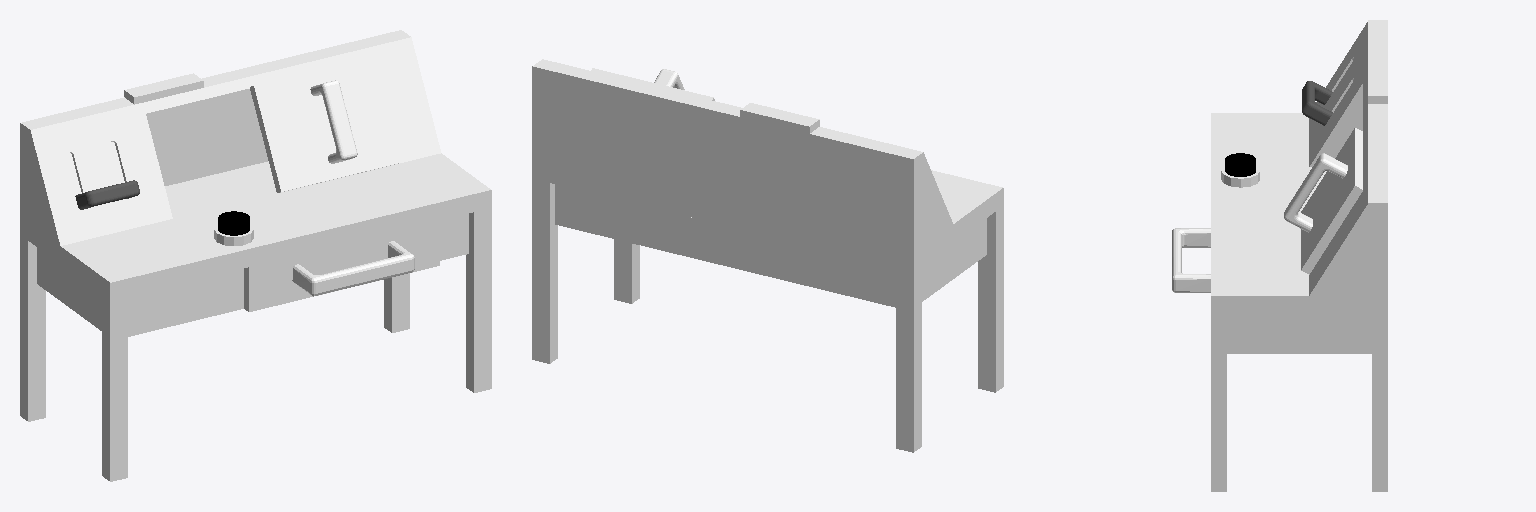
URDF robot description (playtable_6):
<?xml version="1.0" encoding="utf-8"?>
<robot
  name="playtable_6" concave="yes">
  <link
    name="base_link">
    <inertial>
      <origin
        xyz="-0.0432138999361933 0.501032855485917 -0.0450543406685958"
        rpy="0 0 0" />
      <mass
        value="0.0" />
        <!-- value="46.9509300649509" -->
      <inertia
        ixx="1.52184000058477"
        ixy="0.0840236872172208"
        ixz="0.00884214497846794"
        iyy="6.69611350891614"
        iyz="0.279082713309664"
        izz="6.51745652638833" />
    </inertial>
    <visual>
      <origin
        xyz="0 0 0"
        rpy="0 0 0" />
      <geometry>
        <mesh
          filename="../meshes/base_link.obj" />
      </geometry>
      <material name="white">
       <color rgba="1 1 1 1"/>
     </material>
    </visual>
    <collision concave="yes">
      <origin
        xyz="0 0 0"
        rpy="0 0 0" />
      <geometry>
        <mesh
          filename="../meshes/base_link.obj" />
      </geometry>
    </collision>
  </link>
  <link
    name="button_link">
    <inertial>
      <origin
        xyz="2.77555756156289E-17 0.0149999999999999 -2.77555756156289E-17"
        rpy="0 0 0" />
      <mass
        value="0.153812376319756" />
      <inertia
        ixx="7.30608787518844E-05"
        ixy="-1.78342506783922E-37"
        ixz="0"
        iyy="0.000123049901055805"
        iyz="-2.99751059459683E-37"
        izz="7.30608787518843E-05" />
    </inertial>
    <visual>
      <origin
        xyz="0 0 0"
        rpy="0 0 0" />
      <geometry>
        <mesh
          filename="../meshes/button_link.STL" />
      </geometry>
      <material
        name="black">
        <color
          rgba="0.0 0.0 0.0 1" />
      </material>
    </visual>
    <collision>
      <origin
        xyz="0 0 0"
        rpy="0 0 0" />
      <geometry>
        <mesh
          filename="../meshes/button_link.STL" />
      </geometry>
    </collision>
  </link>
  <joint
    name="base__button"
    type="prismatic">
    <origin
      xyz="-0.15 -0.15 0.575"
      rpy="1.5708 0 0" />
    <parent
      link="base_link" />
    <child
      link="button_link" />
    <axis
      xyz="0 -1 0" />
    <limit
      lower="0"
      upper="0.025"
      effort="0"
      velocity="0" />
  </joint>
  <link
    name="switch_link">
    <inertial>
      <origin
        xyz="0 0.0501954388893268 -0.01"
        rpy="0 0 0" />
      <mass
        value="0.238786703751891" />
      <inertia
        ixx="0.000149903694690068"
        ixy="3.01021165655857E-20"
        ixz="-1.62742220508933E-21"
        iyy="0.000673716537106872"
        iyz="3.52365706057789E-19"
        izz="0.000767827685519096" />
    </inertial>
    <visual>
      <origin
        xyz="0 0 0"
        rpy="0 0 0" />
      <geometry>
        <mesh
          filename="../meshes/switch_link.obj" />
      </geometry>
      <material
        name="gray">
        <color
          rgba="0.4 0.4 0.4 1" />
      </material>
    </visual>
    <collision>
      <origin
        xyz="0 0 0"
        rpy="0 0 0" />
      <geometry>
        <mesh
          filename="../meshes/switch_link_vhacd2.obj" />
      </geometry>
    </collision>
  </link>
  <joint
    name="base__switch"
    type="prismatic">
    <origin
      xyz="-0.4 0.07616 0.61861"
      rpy="2.618 0 0" />
    <parent
      link="base_link" />
    <child
      link="switch_link" />
    <axis
      xyz="0 0 -1" />
    <limit
      lower="0"
      upper="0.11"
      effort="0"
      velocity="0" />
  </joint>
  <link
    name="slide_link">
    <inertial>
      <origin
        xyz="0.175 -2.22044604925031E-16 0.0204147302446786"
        rpy="0 0 0" />
      <mass
        value="1.54349139995684" />
      <inertia
        ixx="0.0102407243866408"
        ixy="-5.52859067147059E-19"
        ixz="3.1174867142905E-20"
        iyy="0.0146074020666347"
        iyz="-2.29850860566927E-17"
        izz="0.0232176606837711" />
    </inertial>
    <visual>
      <origin
        xyz="0 0 0"
        rpy="0 0 0" />
      <geometry>
        <mesh
          filename="../meshes/slide_link.obj" />
      </geometry>
      <material name="white">
       <color rgba="1 1 1 1"/>
     </material>
    </visual>
    <collision>
      <origin
        xyz="0 0 0"
        rpy="0 0 0" />
      <geometry>
        <mesh
          filename="../meshes/slide_link_vhacd2.obj" />
      </geometry>
    </collision>
  </link>
  <joint
    name="base__slide"
    type="prismatic">
    <origin
      xyz="0.075 0.09375 0.66908"
      rpy="1.0472 0 0" />
    <parent
      link="base_link" />
    <child
      link="slide_link" />
    <axis
      xyz="-1 0 0" />
    <limit
      lower="0"
      upper="0.3"
      effort="0"
      velocity="0" />
  </joint>
  <link
    name="drawer_link">
    <inertial>
      <origin
        xyz="5.55111512312578E-17 0.033198054271063 0.0988554042464424"
        rpy="0 0 0" />
      <mass
        value="4.23128077824699" />
      <inertia
        ixx="0.059216774525043"
        ixy="-3.31093063636535E-19"
        ixz="-3.37937281161808E-18"
        iyy="0.16375258619816"
        iyz="-4.16732706455143E-05"
        izz="0.11199026473436" />
    </inertial>
    <visual>
      <origin
        xyz="0 0 0"
        rpy="0 0 0" />
      <geometry>
        <mesh
          filename="../meshes/drawer_link.obj" />
      </geometry>
      <material name="white">
       <color rgba="1 1 1 1"/>
     </material>
    </visual>
    <collision>
      <origin
        xyz="0 0 0"
        rpy="0 0 0" />
      <geometry>
        <mesh
          filename="../meshes/drawer_link_vhacd2.obj" />
      </geometry>
    </collision>
  </link>
  <joint
    name="base__drawer"
    type="prismatic">
    <origin
      xyz="0.125 0 0.4"
      rpy="1.5708 0 0" />
    <parent
      link="base_link" />
    <child
      link="drawer_link" />
    <axis
      xyz="0 0 1" />
    <limit
      lower="0"
      upper="0.275"
      effort="0"
      velocity="0" />
  </joint>
  <link
    name="led_link">
    <inertial>
      <origin
        xyz="-2.77555756156289E-17 0.01 0"
        rpy="0 0 0" />
      <mass
        value="0.204" />
      <inertia
        ixx="4.93E-05"
        ixy="-1.17961196366423E-21"
        ixz="1.4100049253174E-20"
        iyy="0.000722500000000001"
        iyz="-1.87344412162302E-37"
        izz="0.000686800000000001" />
    </inertial>
    <visual>
      <origin
        xyz="0 0 0"
        rpy="0 0 0" />
      <geometry>
        <mesh
          filename="../meshes/led_link.STL" />
      </geometry>
      <material
        name="white">
        <color
          rgba="1 1 1 1" />
      </material>
    </visual>
    <collision>
      <origin
        xyz="0 0 0"
        rpy="0 0 0" />
      <geometry>
        <mesh
          filename="../meshes/led_link.STL" />
      </geometry>
    </collision>
  </link>
  <joint
    name="base__led"
    type="fixed">
    <origin
      xyz="-0.15 0.2 0.80981"
      rpy="1.5708 0 0" />
    <parent
      link="base_link" />
    <child
      link="led_link" />
    <axis
      xyz="0 0 0" />
    <limit
      lower="0"
      upper="0"
      effort="0"
      velocity="0" />
  </joint>
  <link
    name="light_link">
    <inertial>
      <origin
        xyz="5.55111512312578E-17 0.0280266379242365 -0.035"
        rpy="0 0 0" />
      <mass
        value="0.173918312098126" />
      <inertia
        ixx="8.23031895831843E-05"
        ixy="1.45149564099263E-22"
        ixz="4.04382946355205E-38"
        iyy="8.738048875184E-05"
        iyz="8.02658189462509E-38"
        izz="8.23031895831843E-05" />
    </inertial>
    <visual>
      <origin
        xyz="0 0 0"
        rpy="0 0 0" />
      <geometry>
        <mesh
          filename="../meshes/light_link.STL" />
      </geometry>
      <material
        name="white">
        <color
          rgba="1 1 1 1" />
      </material>
    </visual>
    <collision>
      <origin
        xyz="0 0 0"
        rpy="0 0 0" />
      <geometry>
        <mesh
          filename="../meshes/light_link.STL" />
      </geometry>
    </collision>
  </link>
  <joint
    name="base__light"
    type="fixed">
    <origin
      xyz="-0.4 0.165 0.80981"
      rpy="1.5708 0 0" />
    <parent
      link="base_link" />
    <child
      link="light_link" />
    <axis
      xyz="0 0 0" />
  </joint>
  <link
    name="plank_link">
    <inertial>
      <origin
        xyz="2.77555756156289E-17 0.0125 0"
        rpy="0 0 0" />
      <mass
        value="2.84375" />
      <inertia
        ixx="0.00740559895833334"
        ixy="-4.69820941410383E-20"
        ixz="2.0274580625479E-18"
        iyy="0.107381184895833"
        iyz="1.88079096131566E-34"
        izz="0.100271809895833" />
    </inertial>
    <visual>
      <origin
        xyz="0 0 0"
        rpy="0 0 0" />
      <geometry>
        <mesh
          filename="../meshes/plank_link.obj" />
      </geometry>
      <material name="white">
       <color rgba="1 1 1 1"/>
     </material>
    </visual>
    <collision>
      <origin
        xyz="0 0 0"
        rpy="0 0 0" />
      <geometry>
        <mesh
          filename="../meshes/plank_link.obj" />
      </geometry>
    </collision>
  </link>
  <joint
    name="base__plank"
    type="fixed">
    <origin
      xyz="0.1 0.1125 0.525"
      rpy="1.5708 0 0" />
    <parent
      link="base_link" />
    <child
      link="plank_link" />
    <axis
      xyz="0 0 0" />
  </joint>
</robot>

--- Render facts (derived) ---
3 views of the same robot in one strip: view 1: azimuth 30°, elevation 25°; view 2: azimuth 150°, elevation 25°; view 3: azimuth 270°, elevation 25° (orthographic).
Model playtable_6 with 8 links and 7 joints (4 prismatic, 3 fixed), rooted at base_link, posed all joints at 0.
Links seen in each view (by area): view 1: base_link, slide_link, drawer_link, plank_link, led_link, switch_link, button_link; view 2: base_link, led_link, slide_link; view 3: base_link, slide_link, drawer_link, switch_link, led_link, button_link.
Link boxes in pixels (x1,y1,x2,y2): base_link: [20, 30, 491, 481]; slide_link: [250, 56, 401, 192]; drawer_link: [244, 221, 439, 311]; plank_link: [165, 161, 276, 218]; led_link: [124, 73, 203, 104]; switch_link: [75, 180, 139, 209]; button_link: [218, 211, 249, 235]; base_link: [532, 59, 1003, 452]; led_link: [740, 103, 819, 133]; slide_link: [591, 68, 714, 100]; base_link: [1211, 20, 1387, 491]; slide_link: [1284, 128, 1362, 274]; drawer_link: [1172, 228, 1210, 292]; switch_link: [1302, 81, 1332, 125]; led_link: [1368, 63, 1387, 103]; button_link: [1225, 153, 1255, 176].
Bounding box of the posed robot: 1.1 × 0.55 × 0.8298 m (x, y, z).
7 mesh visuals loaded from 8 distinct referenced files (2 binary STL, 5 OBJ); not drawn: 1 (reference not matched to a file when rendering).
